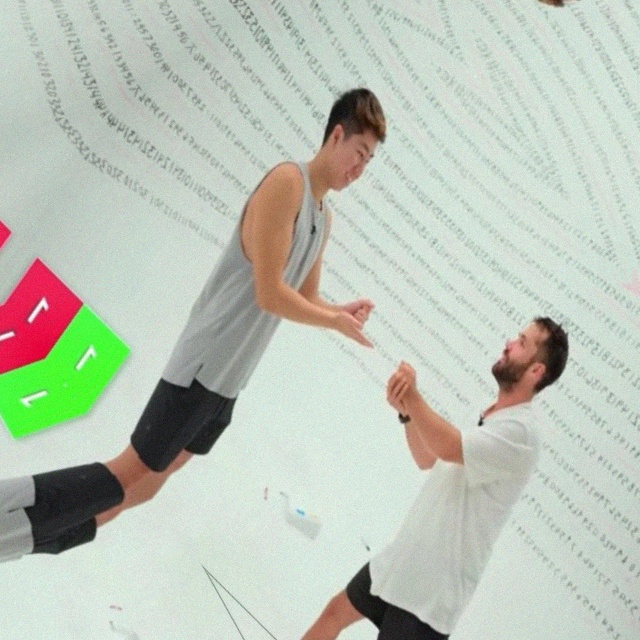Rock: (378, 353, 432, 406), (339, 285, 385, 330)
